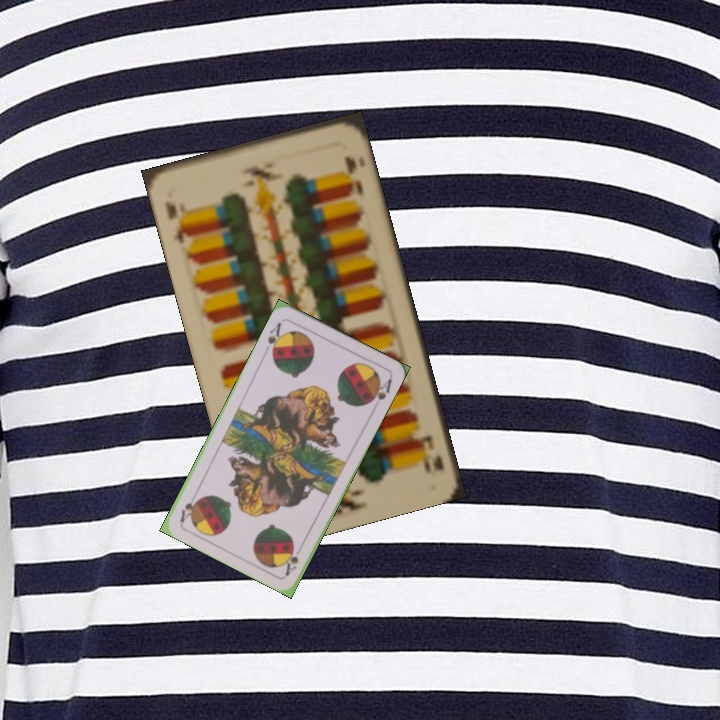E10: (160, 197, 194, 247), (414, 430, 447, 477)
SA: (261, 318, 287, 358), (281, 543, 301, 578)
